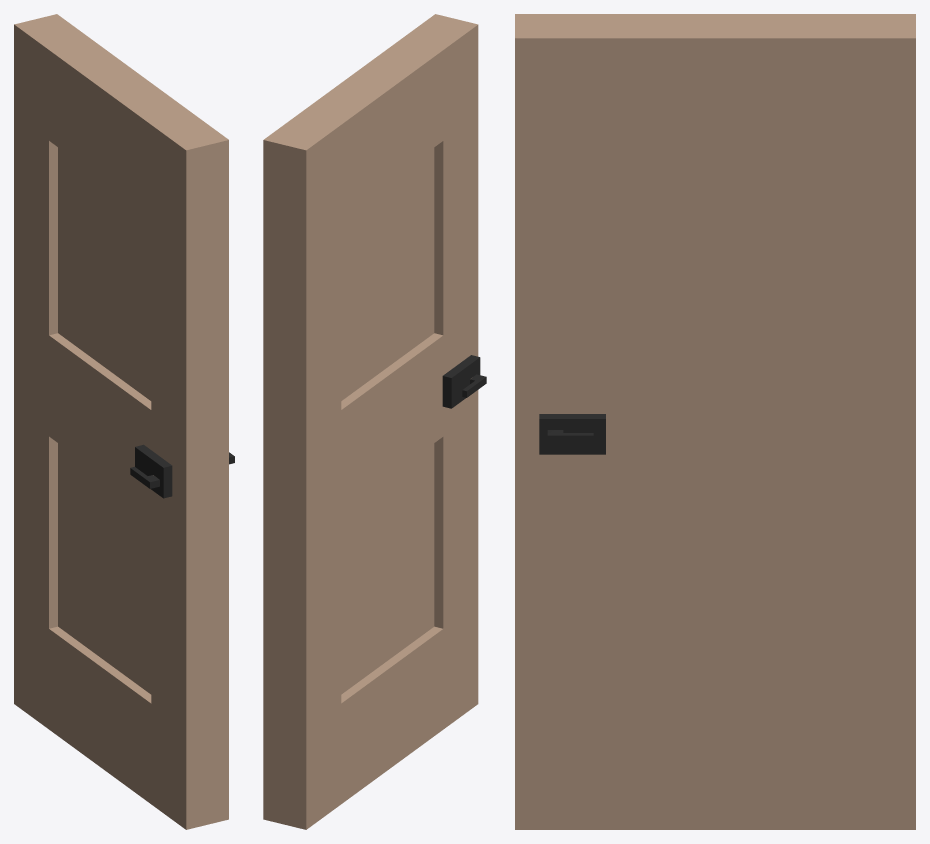
File: normalDoor.gltf
The picture shows the model from 3 angles, left to right: view 1: azimuth 30°, elevation 25°; view 2: azimuth 150°, elevation 25°; view 3: azimuth 270°, elevation 25°; orthographic projection. The views are drawn at different scales.
Parts seen in each view (by area): view 1: door, handle; view 2: door, handle; view 3: door, handle1.
Part boxes in pixels (x1,y1,x2,y2): door: (14, 14, 228, 829); handle: (130, 444, 172, 498); door: (263, 14, 478, 829); handle: (442, 355, 486, 408); door: (515, 14, 915, 829); handle1: (539, 414, 605, 454).
Size of the model in its own units: 0.1028 by 0.7865 by 0.3609.
Materials: 1 (1 with a texture image).
